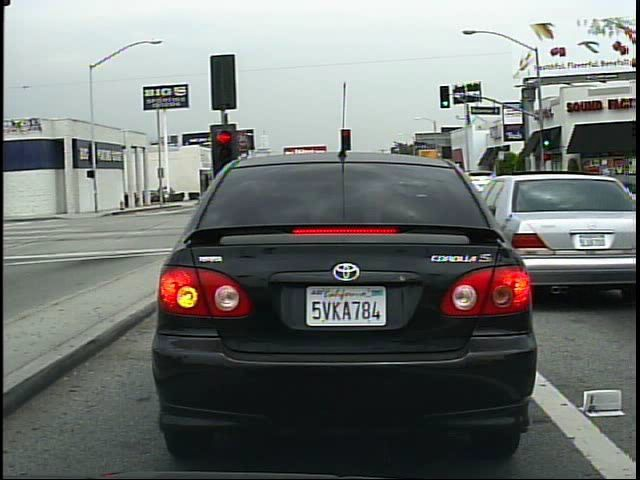person: (517, 168, 532, 201), (164, 183, 172, 206)
